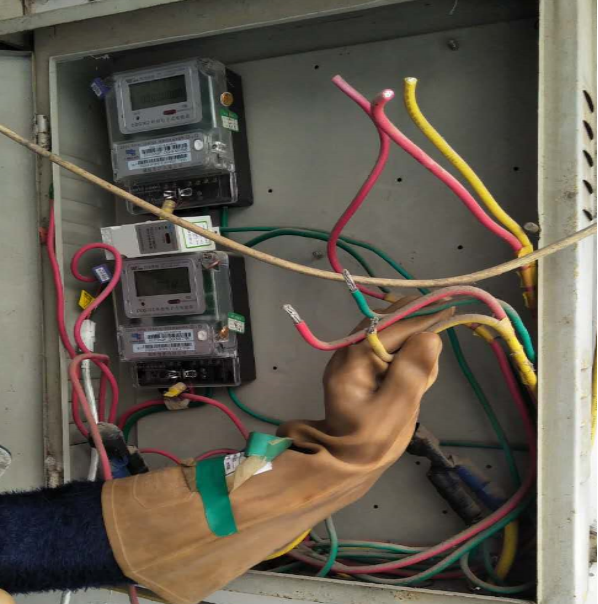longglove: (100, 292, 458, 601)
